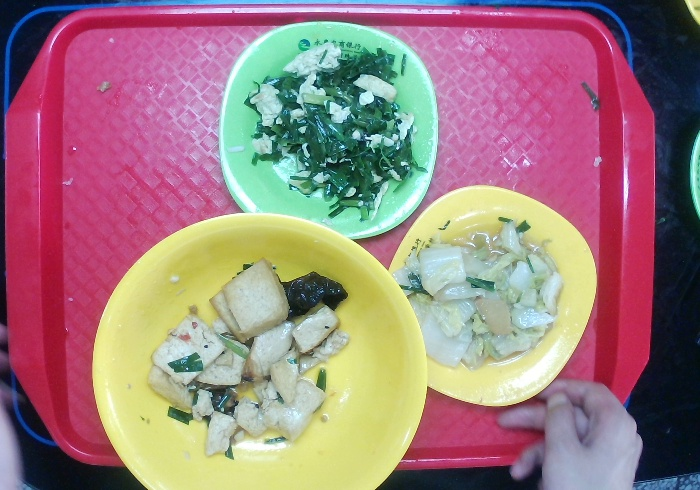YKMZ-Huang_Se_Fang_Die: (378, 176, 610, 413)
YKMZ-Huang_Se_Tang_Wan: (81, 205, 435, 490)
YKMZ-Lv_Se_Fang_Die: (214, 11, 452, 245)
